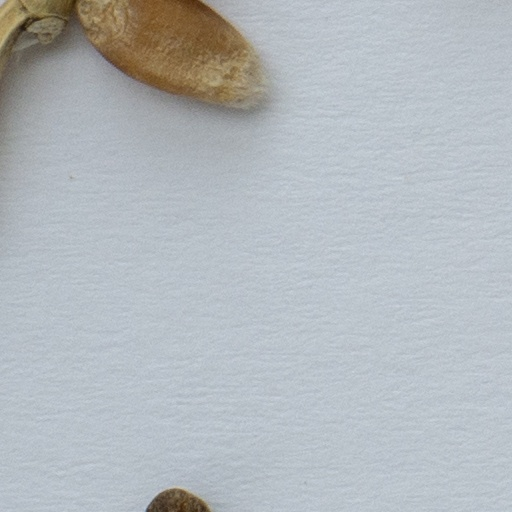Peel-poly: (0, 0, 79, 85)
Wheat-grain-poly: (75, 0, 266, 109)
